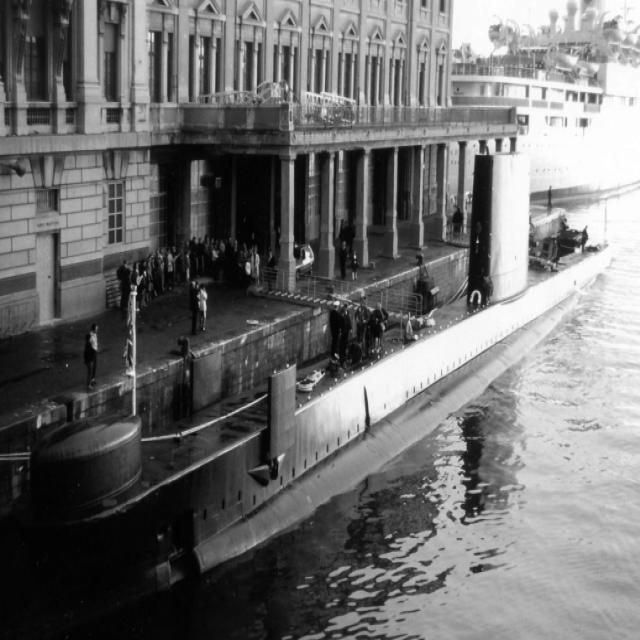submarine: (12, 145, 612, 606)
